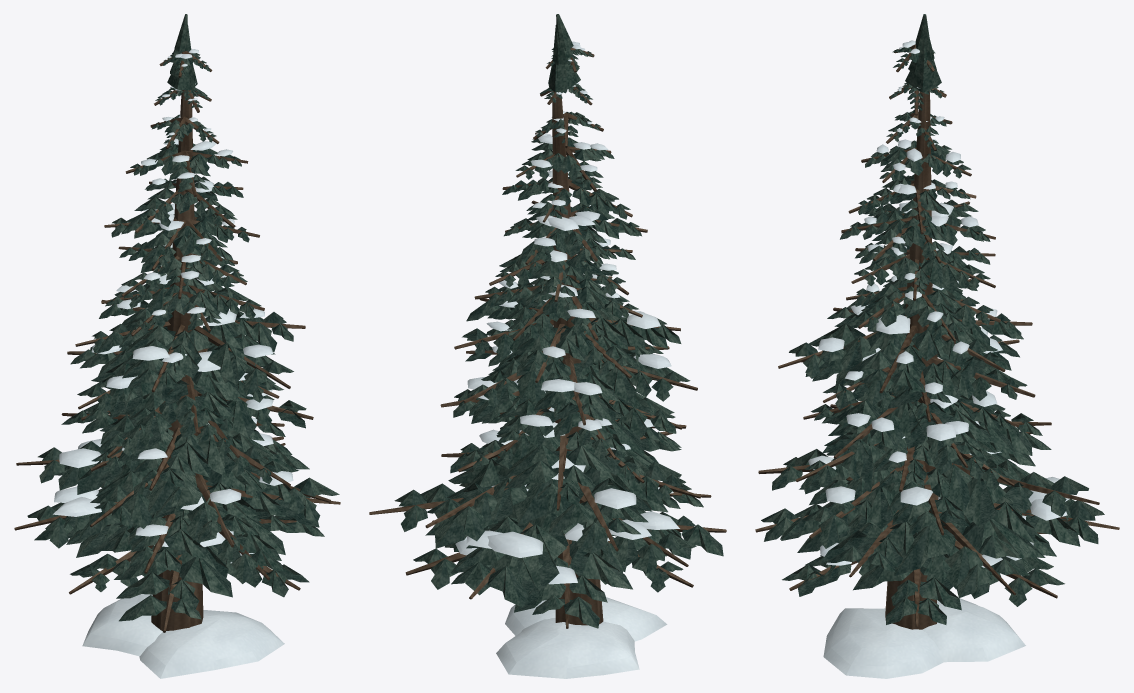
File: 16_Young_Pine.obj
The picture shows the model from 3 angles, left to right: view 1: azimuth 30°, elevation 25°; view 2: azimuth 150°, elevation 25°; view 3: azimuth 270°, elevation 25°; orthographic projection. The views are drawn at different scales.
Parts seen in each view (by area): view 1: 16_Young_Pine; view 2: 16_Young_Pine; view 3: 16_Young_Pine.
Part boxes in pixels (x1,y1,x2,y2): 16_Young_Pine: (14, 14, 340, 678); 16_Young_Pine: (369, 14, 726, 678); 16_Young_Pine: (755, 14, 1119, 678).
Bounding box in the file's own units: 1.52 × 3.09 × 1.6.
Materials: 4 (4 with a texture image).
